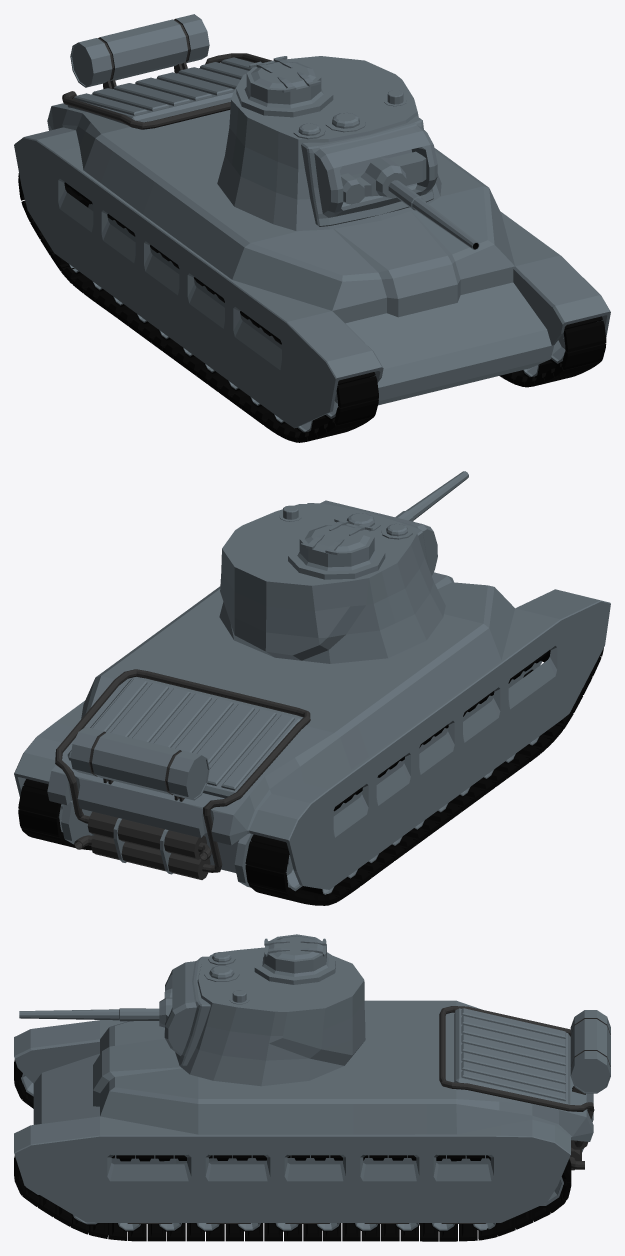
The picture shows the model from 3 angles, top to bottom: view 1: azimuth 30°, elevation 25°; view 2: azimuth 150°, elevation 25°; view 3: azimuth 270°, elevation 25°; orthographic projection. The views are drawn at different scales.
Visible parts, largest first — view 1: Plane, Cylinder.001, Cylinder, Cylinder.004, Cylinder.003, Cylinder.002; view 2: Plane, Cylinder.001, Cylinder, Cylinder.004, Cylinder.002, Cylinder.003; view 3: Plane, Cylinder.001, Cylinder, Cylinder.004, Cylinder.003, Cylinder.002.
Part boxes in pixels (x1=…): Plane: x1=14, y1=14, x2=610, y2=428; Cylinder.001: x1=217, y1=56, x2=441, y2=230; Cylinder: x1=18, y1=173, x2=606, y2=442; Cylinder.004: x1=340, y1=151, x2=479, y2=249; Cylinder.003: x1=254, y1=68, x2=316, y2=88; Cylinder.002: x1=251, y1=58, x2=311, y2=81; Plane: x1=14, y1=572, x2=610, y2=889; Cylinder.001: x1=219, y1=500, x2=445, y2=663; Cylinder: x1=18, y1=648, x2=603, y2=905; Cylinder.004: x1=395, y1=471, x2=468, y2=521; Cylinder.002: x1=304, y1=530, x2=364, y2=551; Cylinder.003: x1=310, y1=521, x2=370, y2=545; Plane: x1=14, y1=1000, x2=610, y2=1222; Cylinder.001: x1=164, y1=934, x2=365, y2=1086; Cylinder: x1=14, y1=1059, x2=571, y2=1241; Cylinder.004: x1=19, y1=988, x2=172, y2=1027; Cylinder.003: x1=268, y1=936, x2=296, y2=959; Cylinder.002: x1=294, y1=936, x2=323, y2=959.
Bounding box in the file's own units: 309 × 285 × 671.
